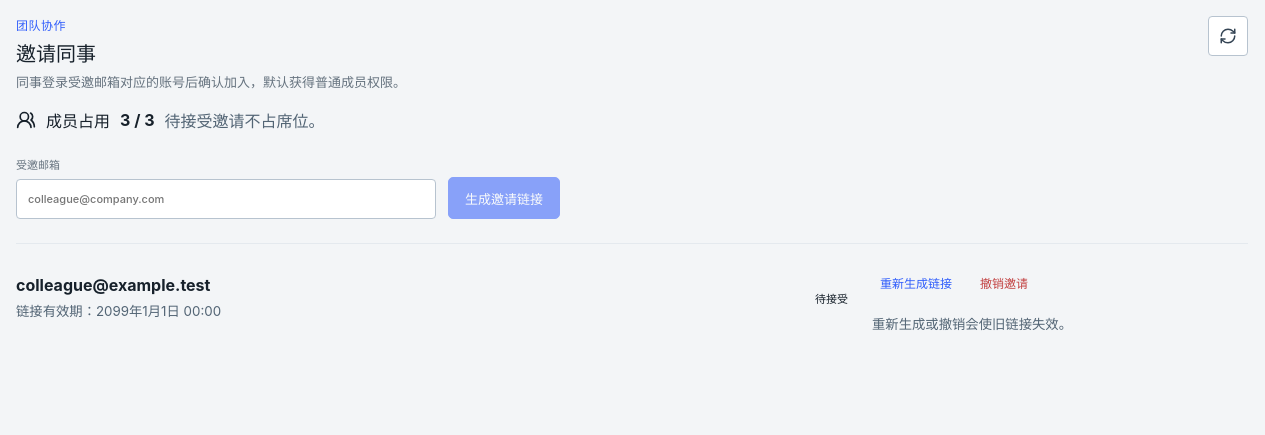
Scenario: retries a failed clipboard copy without repeating the invitation write and clears the link on refresh
This screenshot has width=1265, height=435.
In the field labelled "受邀邮箱": (226, 199) [16,179,436,219], type "colleague@example.test"
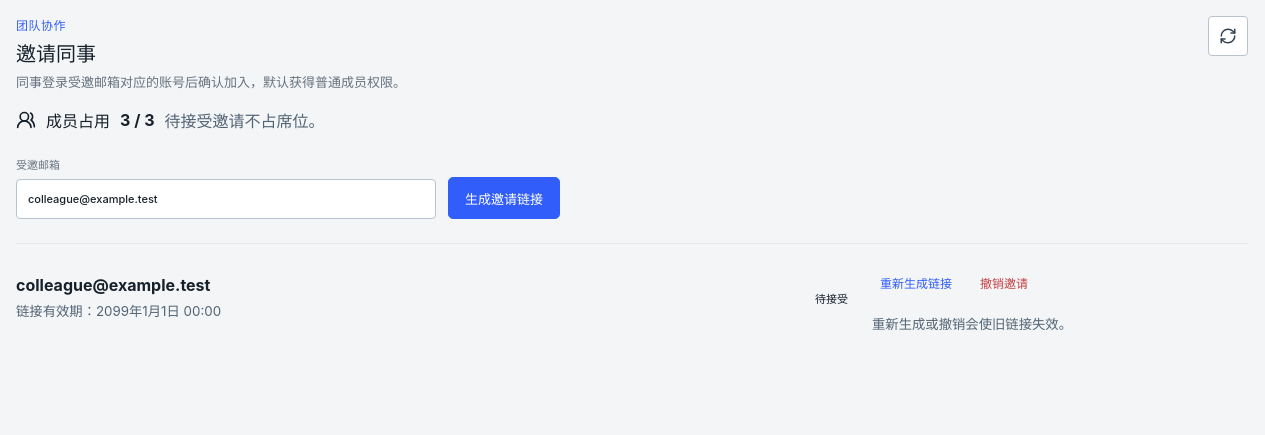
Click the button "生成邀请链接": (504, 198) [448,177,560,219]
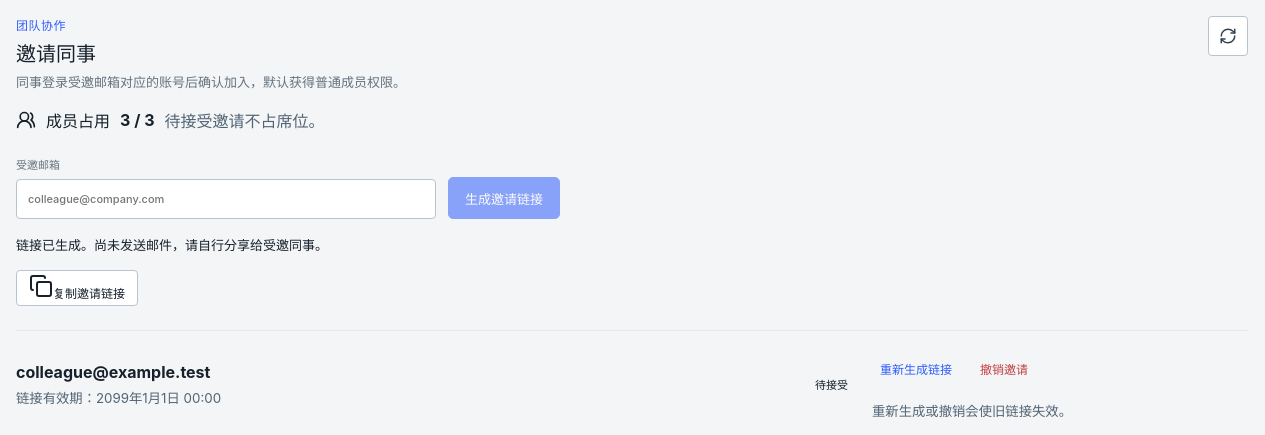
Click the button "复制邀请链接": (77, 288) [16,270,138,306]
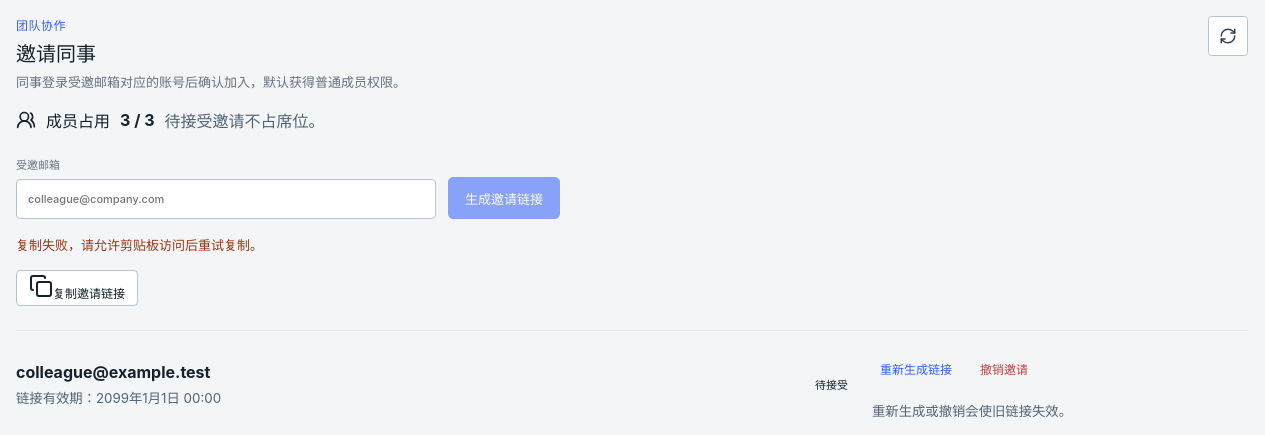
expect the text "复制失败，请允许剪贴板访问后重试复制。" is shown: met, box [16,237,263,253]
Click the button "复制邀请链接": (77, 288) [16,270,138,306]
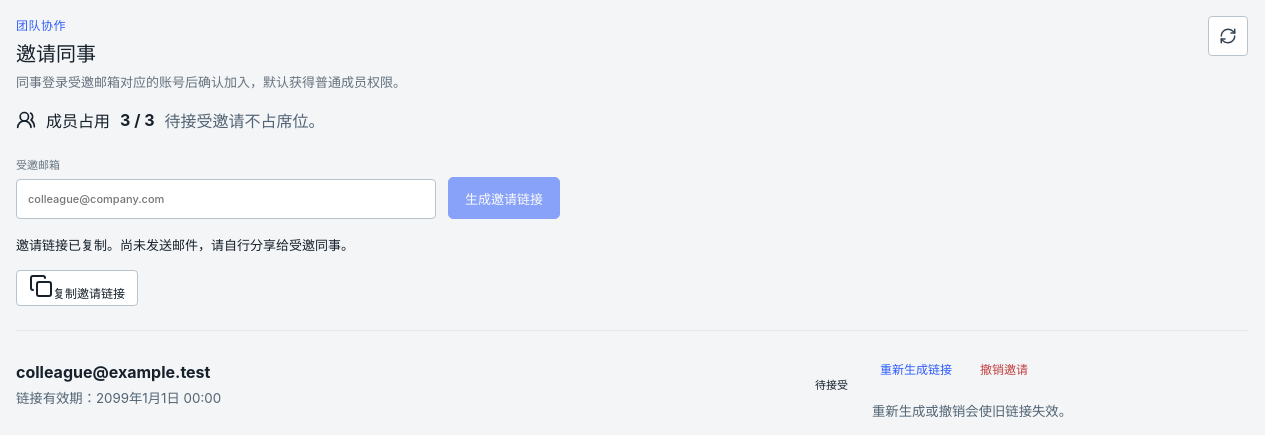
expect the text "3 / 3" is shown: met, box [120,110,154,130]
expect the text "邀请链接已复制。尚未发送邮件，请自行分享给受邀同事。" is shown: met, box [16,237,354,253]
Click the button named "刷新邀请": (1228, 36) [1208,16,1248,56]
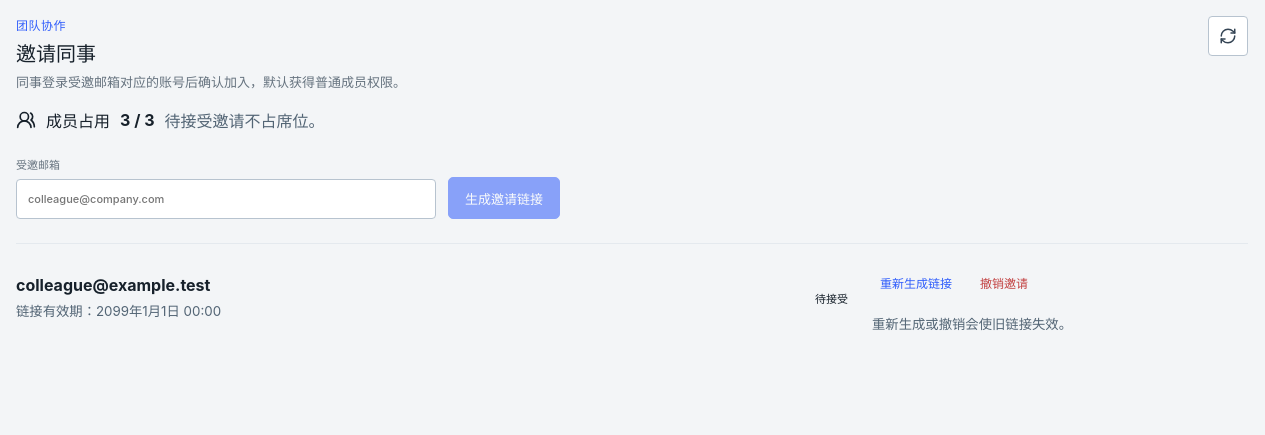
expect the button "复制邀请链接" is gone: met
